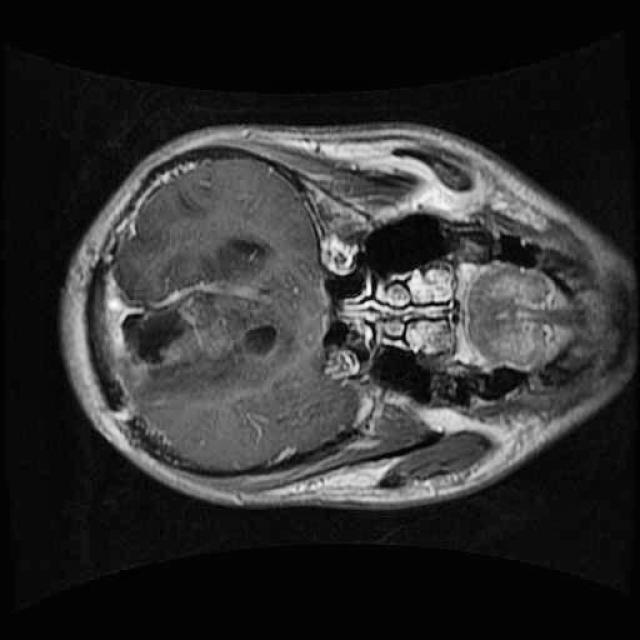Tumor: (106, 233, 308, 422)
